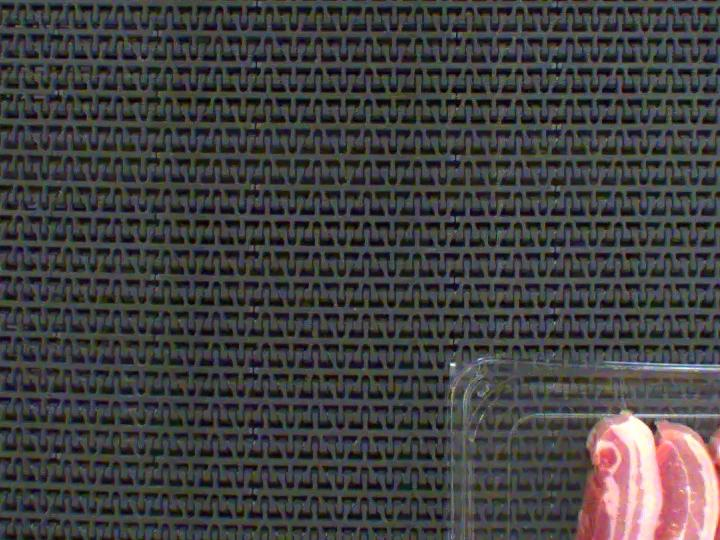packaging-error: (600, 374, 634, 418)
